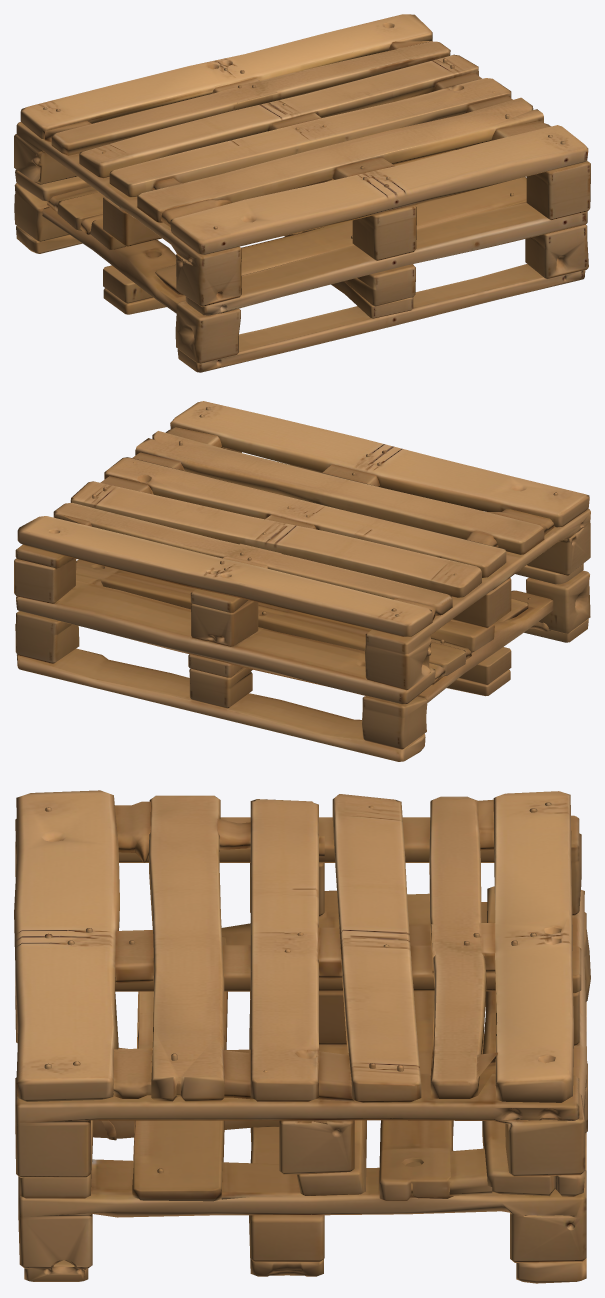
The model's file is paleta.glb.
3 renders of one model, top to bottom at view 1: azimuth 30°, elevation 25°; view 2: azimuth 150°, elevation 25°; view 3: azimuth 270°, elevation 25°, orthographic. The views are drawn at different scales.
Parts seen in each view (by area): view 1: tripo_node_86b88827-ac75-42ad-8902-169d149a499e; view 2: tripo_node_86b88827-ac75-42ad-8902-169d149a499e; view 3: tripo_node_86b88827-ac75-42ad-8902-169d149a499e.
Boxes of the visible parts, bbox=[...] form: tripo_node_86b88827-ac75-42ad-8902-169d149a499e: bbox=[14, 14, 590, 372]; tripo_node_86b88827-ac75-42ad-8902-169d149a499e: bbox=[14, 401, 590, 761]; tripo_node_86b88827-ac75-42ad-8902-169d149a499e: bbox=[14, 790, 590, 1283].
Size of the model in its own units: 0.9995 by 0.3306 by 0.8286.
Materials: 1 (1 with a texture image).
